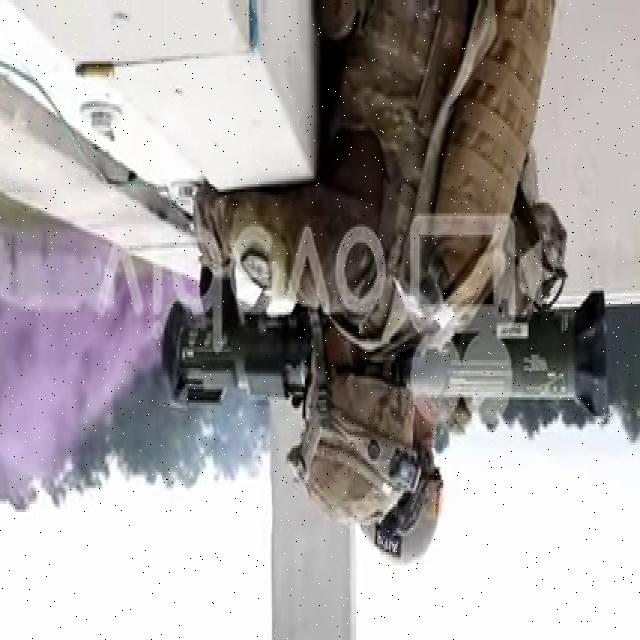bazooka: (158, 273, 613, 441)
